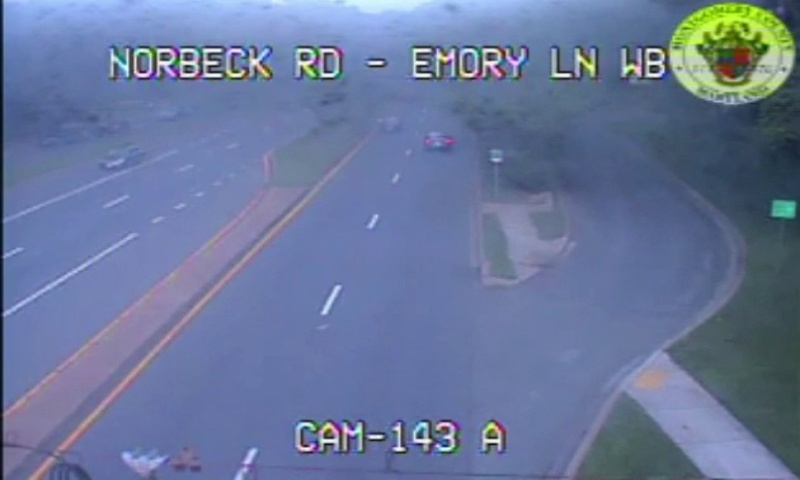car: (422, 131, 453, 151)
